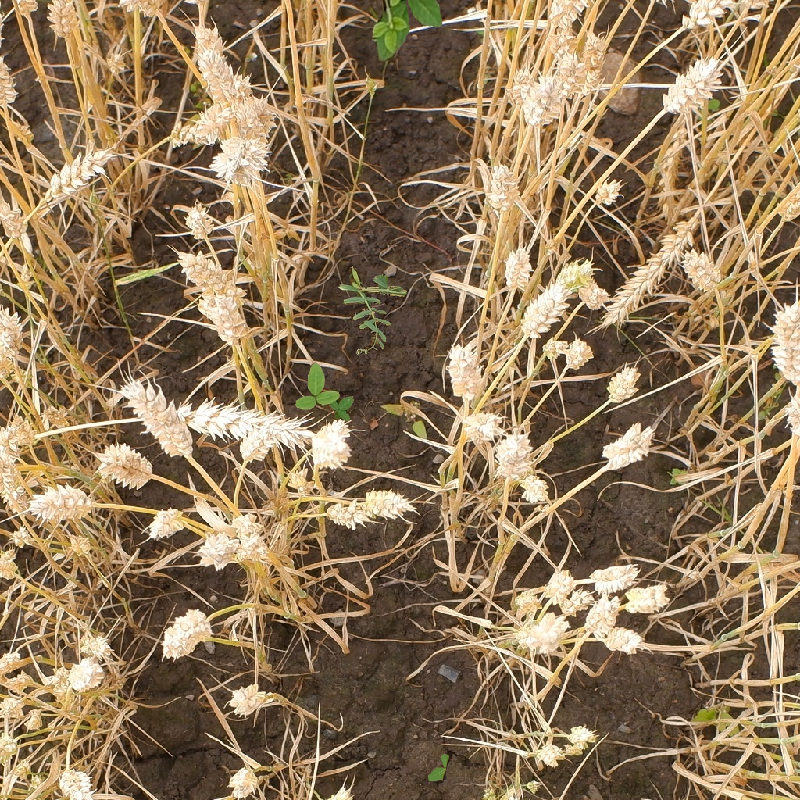spikelet: (605, 224, 690, 314), (176, 247, 249, 343), (519, 254, 591, 338), (121, 376, 193, 455), (186, 397, 305, 444), (521, 47, 591, 124), (658, 50, 724, 116), (43, 142, 113, 203), (191, 33, 248, 101), (209, 131, 270, 187), (158, 604, 214, 660), (235, 414, 299, 463), (678, 1, 768, 34), (599, 419, 656, 471), (94, 440, 152, 490), (168, 101, 226, 150), (29, 479, 93, 523), (768, 298, 800, 384), (512, 608, 569, 656), (305, 415, 354, 470), (442, 339, 486, 400), (490, 429, 534, 482), (360, 483, 416, 522), (482, 161, 520, 218), (681, 245, 724, 294), (540, 1, 603, 31), (322, 491, 369, 531), (457, 404, 502, 445), (227, 678, 272, 718), (588, 558, 639, 593), (623, 578, 672, 614), (603, 360, 643, 404), (144, 502, 188, 541), (500, 242, 534, 292), (195, 526, 235, 568), (60, 530, 100, 572), (63, 655, 105, 694), (1, 413, 39, 455), (582, 594, 619, 637), (602, 622, 646, 656), (181, 199, 216, 241), (540, 566, 577, 605), (44, 1, 81, 40), (57, 764, 98, 799), (225, 762, 263, 799), (588, 174, 625, 210), (561, 721, 599, 756), (561, 334, 595, 371), (99, 44, 132, 82), (1, 305, 24, 359), (576, 275, 610, 311), (76, 628, 114, 660), (518, 470, 551, 506), (1, 465, 24, 514), (782, 377, 799, 438), (5, 520, 39, 550), (533, 739, 566, 768), (1, 52, 17, 109), (114, 1, 171, 17), (21, 770, 51, 799), (1, 690, 27, 723), (1, 545, 21, 583), (1, 726, 20, 765), (1, 646, 23, 679)
weed: (331, 264, 410, 356), (366, 1, 448, 63), (295, 362, 355, 421), (428, 754, 449, 782)
